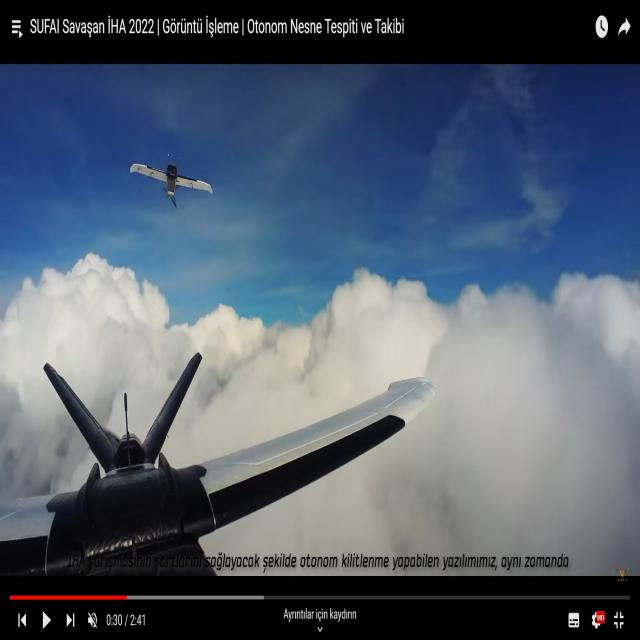iha: (160, 158, 184, 211)
